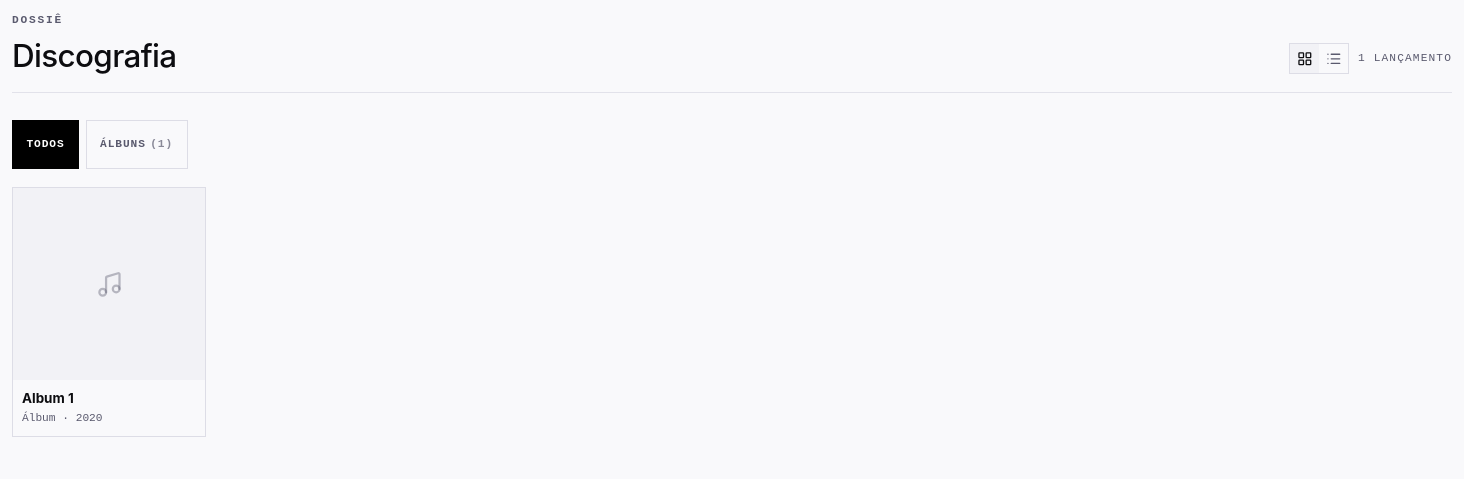
GroupDiscography › trunca em 4 faixas e mostra "N faixas a mais"
Click the button titled "Lista".
click(1333, 58)  # box [1319, 44, 1348, 73]
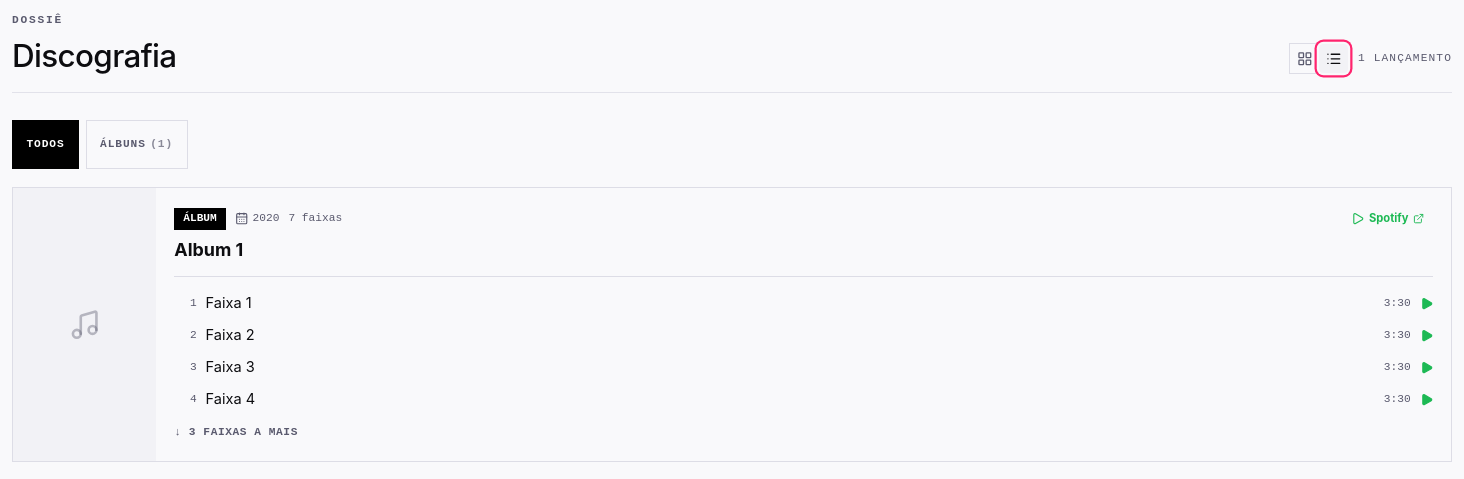
Expected: the text "Faixa 4" is shown, [206, 390, 255, 408]
Expected: the button "↓ 3 faixas a mais" is shown, [174, 424, 298, 441]
